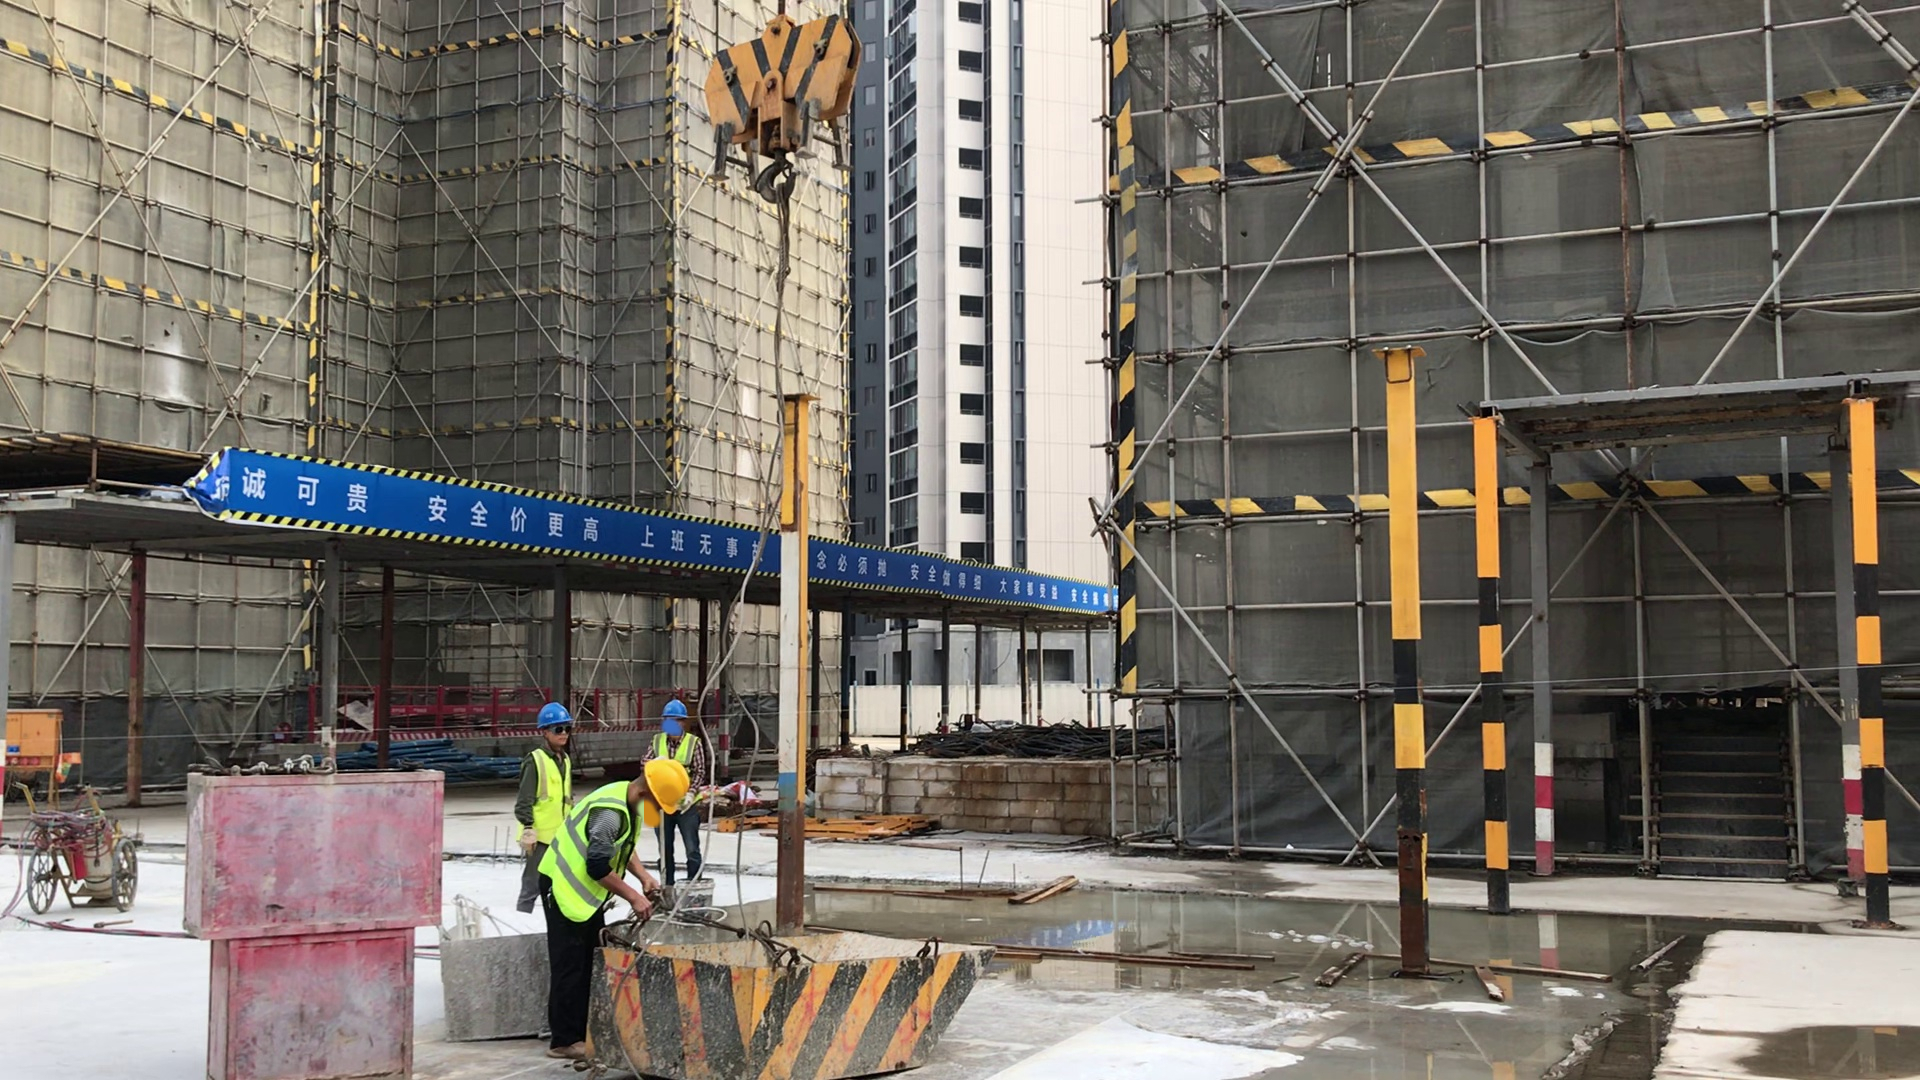ebox: (8, 703, 67, 807)
fence: (232, 445, 745, 568), (813, 539, 1107, 617), (394, 684, 535, 738), (598, 683, 657, 732)
handcart: (17, 780, 143, 917)
hook: (703, 17, 859, 202)
hopper: (596, 930, 1004, 1078), (434, 901, 530, 1048)
person: (533, 754, 693, 1070), (512, 701, 573, 912), (649, 697, 710, 880)
